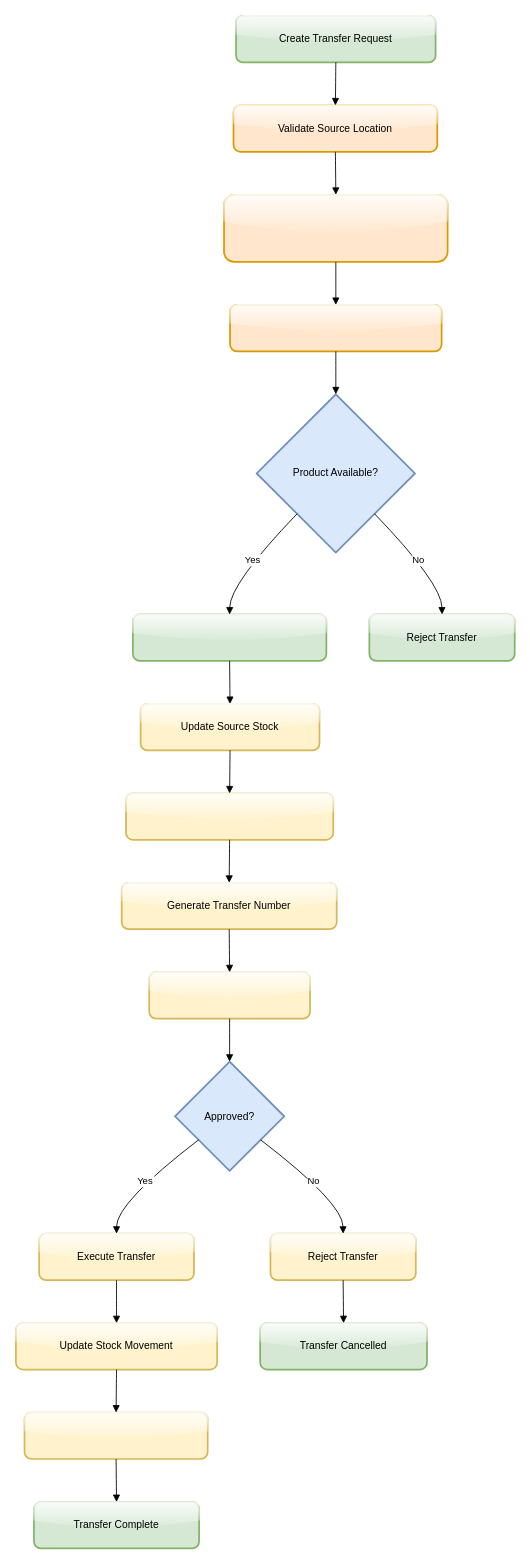
This 530x1563 diagram has some shape labels left out. Each missing label, with the centre of its shape:
"Check Product Availability" belongs at point (335, 328).
"Create Transfer Record" belongs at point (229, 637).
"Send for Approval" belongs at point (229, 995).
"Update Daily Balance" belongs at point (115, 1435).
"Update Destination Stock" belongs at point (229, 816).
"Validate Destination Location" belongs at point (335, 228).
